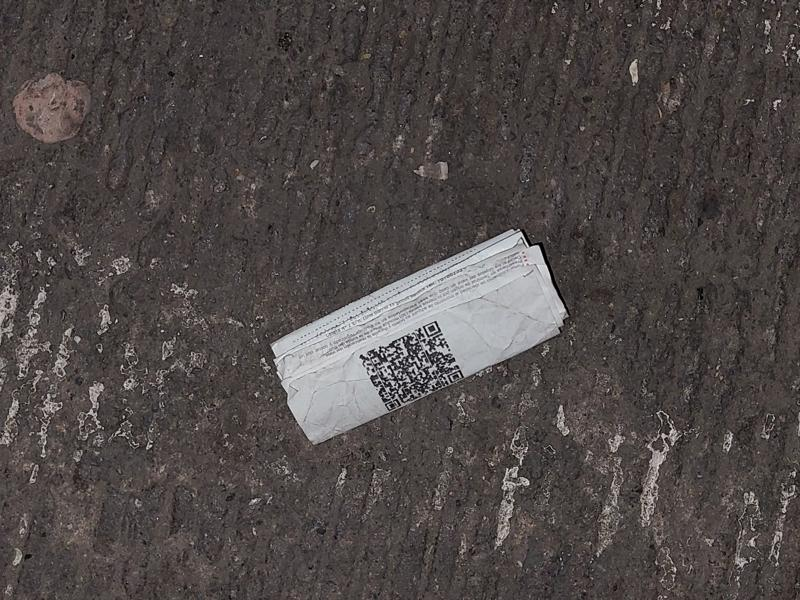papel: (270, 230, 568, 447)
